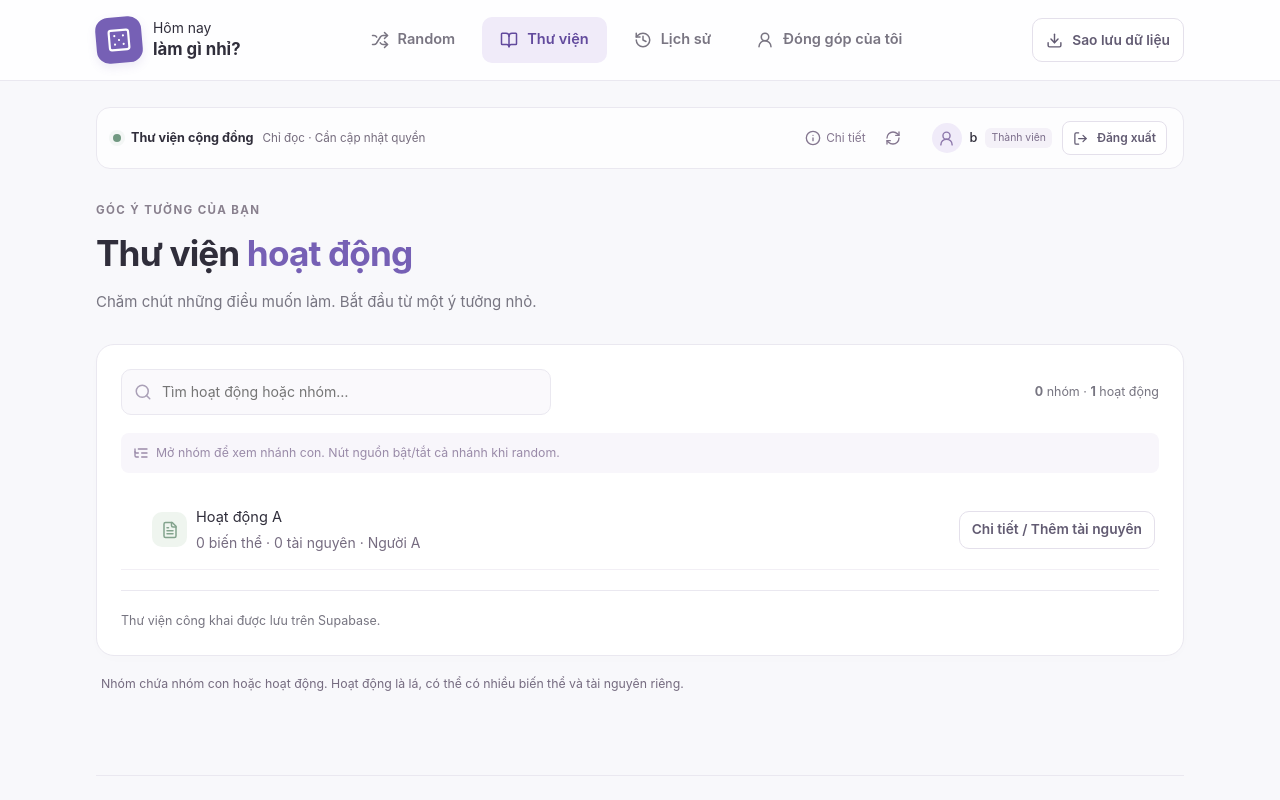
it: Quyền sửa chung và điều hướng đóng góp › chưa chạy 003 thì UI giữ chế độ chỉ đọc, hướng dẫn cập nhật thay vì bật nút ghi
Check: the button named "Tải lại thư viện" is enabled, box top-left (878, 120), bottom-right (908, 156)
Check: the text "Chỉ đọc · Cần cập nhật quyền" is shown, box top-left (262, 129), bottom-right (425, 148)
Click the heading named "Thông tin nguồn dữ liệu" at (835, 138), box top-left (805, 130), bottom-right (866, 146)
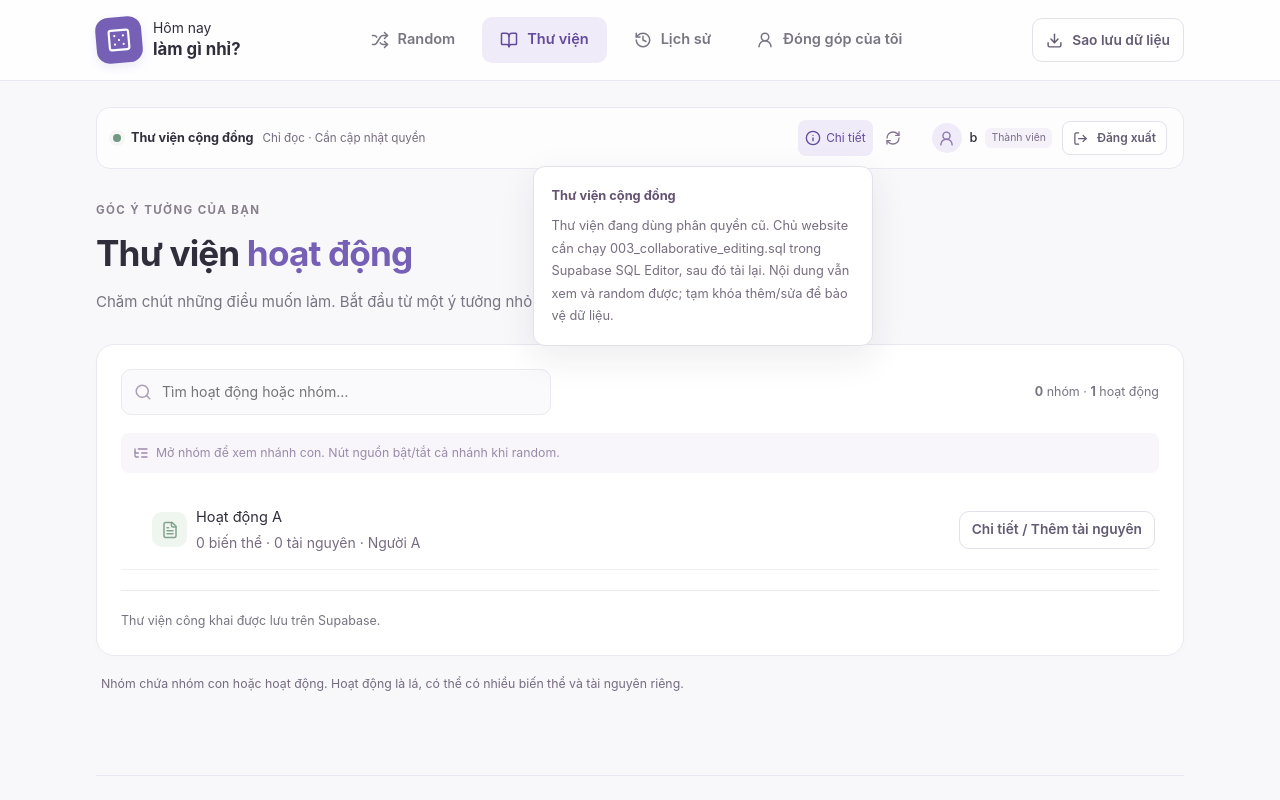
Check: the text "Chủ website cần chạy 003_collaborative_editing.sql" is shown, box top-left (552, 218), bottom-right (849, 323)
